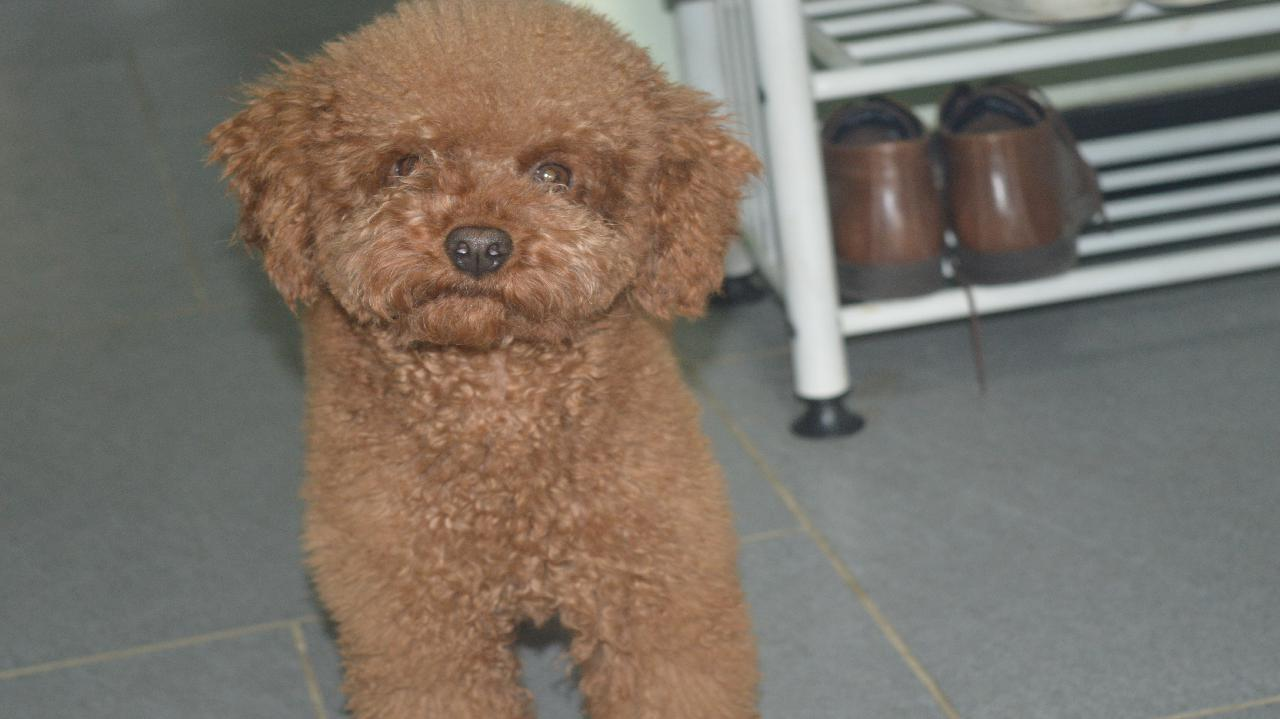zhuangzhuang: (212, 11, 785, 707)
